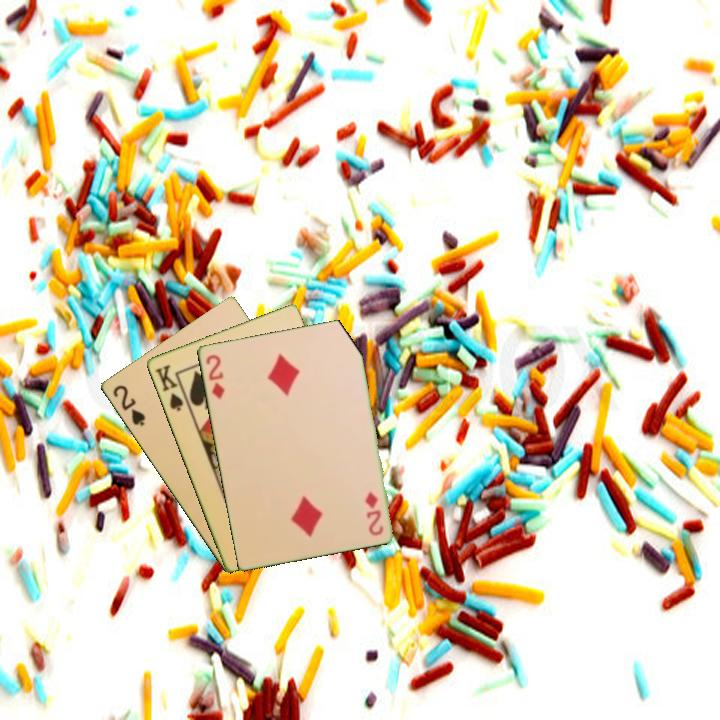2d: (202, 351, 227, 402), (362, 488, 386, 539)
2s: (109, 381, 148, 429)
Ks: (151, 361, 186, 414)
